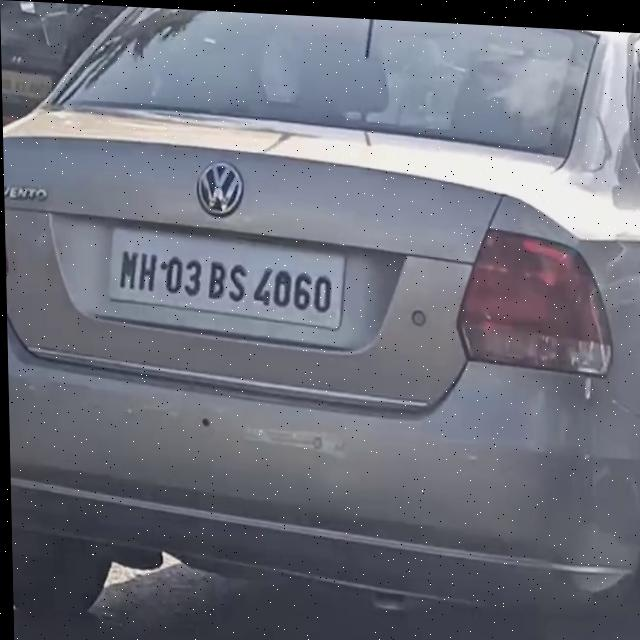plate: (110, 226, 347, 329)
